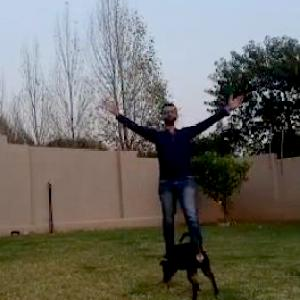takeoff: (97, 65, 259, 266)
